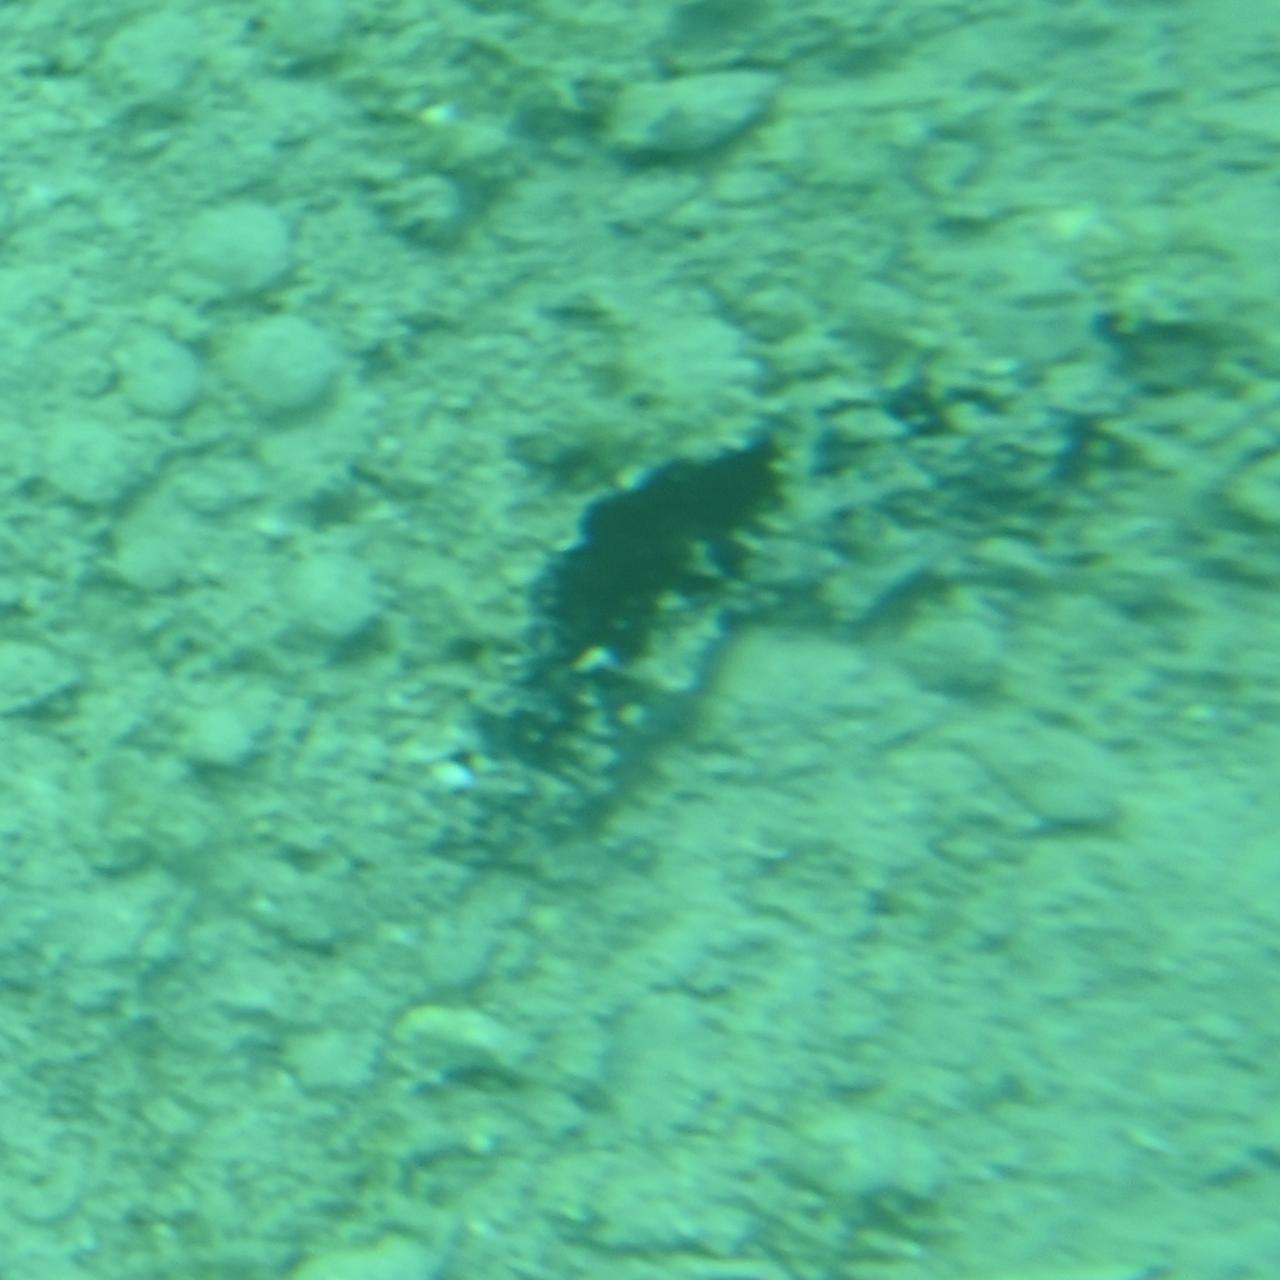Holothuria tubulosa: (417, 380, 1197, 900)
